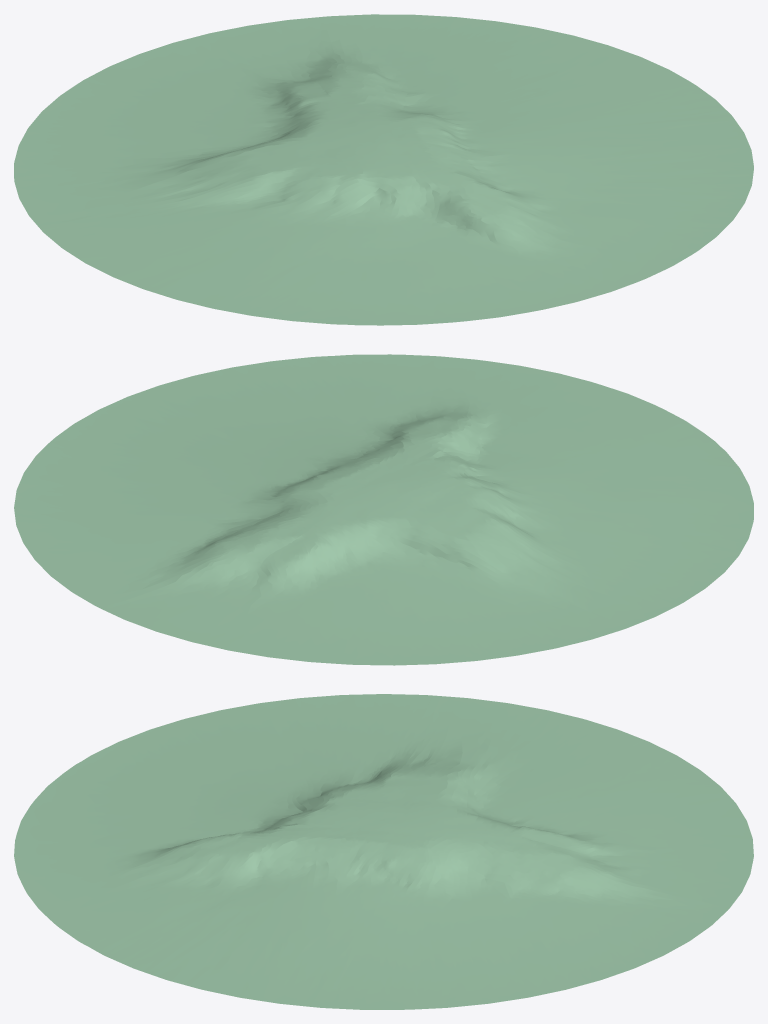
Rendered from island_coral_medium_D.fbx.
3 renders of one model, top to bottom at view 1: azimuth 30°, elevation 25°; view 2: azimuth 150°, elevation 25°; view 3: azimuth 270°, elevation 25°, orthographic.
Visible parts, largest first — view 1: island_coral_medium_D; view 2: island_coral_medium_D; view 3: island_coral_medium_D.
Part boxes in pixels (x1,y1,x2,y2): island_coral_medium_D: [14, 14, 753, 325]; island_coral_medium_D: [14, 354, 753, 665]; island_coral_medium_D: [14, 694, 753, 1009].
Size of the model in its own units: 10701 by 422 by 10591.
